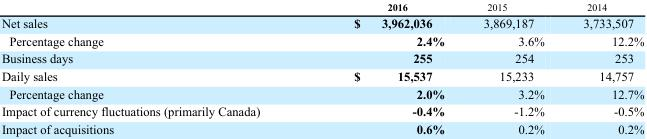table: (0, 0, 643, 135)
table column: (0, 0, 306, 135), (306, 0, 463, 135), (463, 0, 563, 135), (563, 0, 643, 135)
table column header: (0, 0, 643, 13)
table row: (0, 13, 643, 31), (0, 31, 643, 49), (0, 66, 643, 84), (0, 84, 643, 102), (0, 49, 643, 66), (0, 102, 643, 119), (0, 119, 643, 135), (0, 0, 643, 13)
